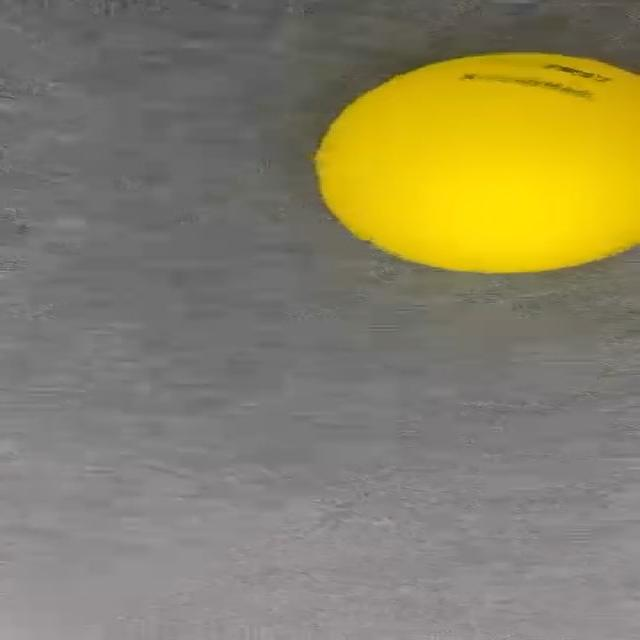Fuels: (313, 52, 640, 271)
